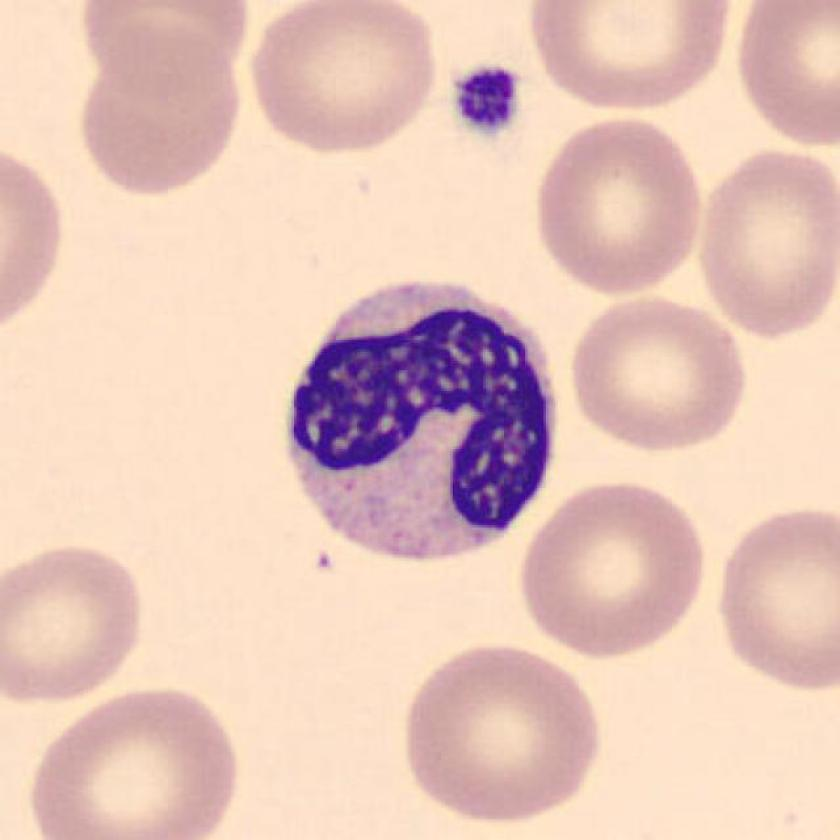neutrophil: (281, 281, 559, 564)
